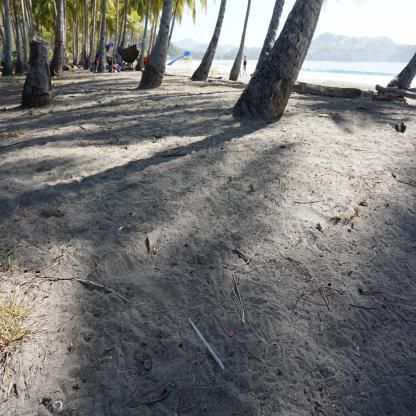plastik: (188, 317, 227, 373)
